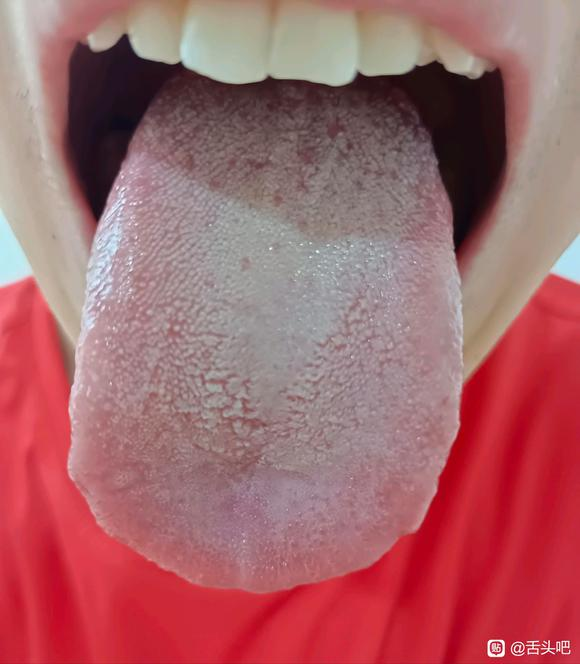baitaishe: (67, 67, 464, 593)
hongdianshe: (178, 95, 356, 206)
